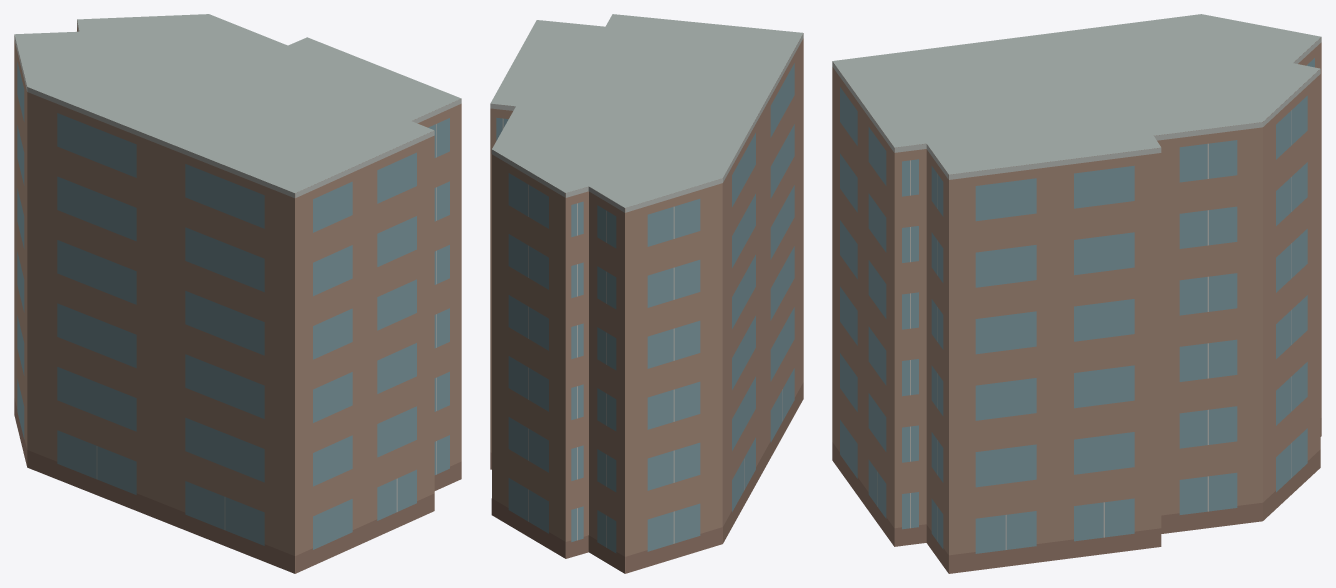
The model's file is survey-upis-32663819.glb.
The picture shows the model from 3 angles, left to right: view 1: azimuth 30°, elevation 25°; view 2: azimuth 150°, elevation 25°; view 3: azimuth 270°, elevation 25°; orthographic projection. The views are drawn at different scales.
Visible parts, largest first — view 1: survey-upis-32663819.tmp; view 2: survey-upis-32663819.tmp; view 3: survey-upis-32663819.tmp.
Part boxes in pixels (x1=…): survey-upis-32663819.tmp: x1=14, y1=14, x2=461, y2=573; survey-upis-32663819.tmp: x1=490, y1=14, x2=803, y2=573; survey-upis-32663819.tmp: x1=832, y1=14, x2=1321, y2=573.
Bounding box in the file's own units: 15.81 × 18.3 × 20.34.
